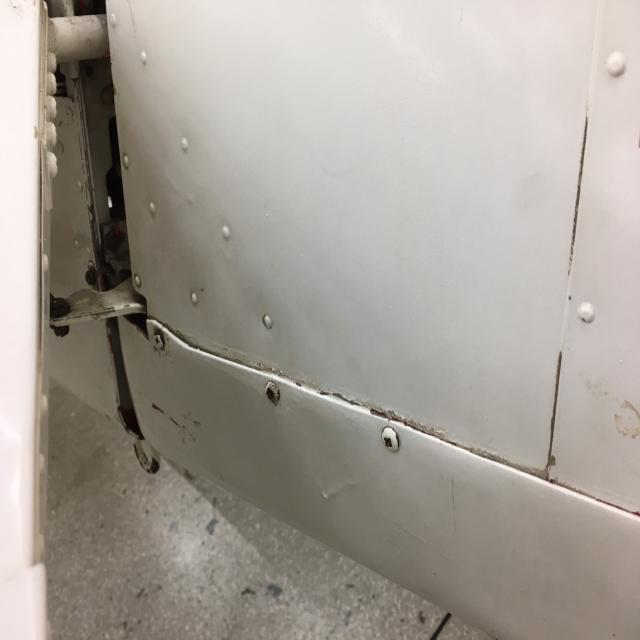Crack: (537, 106, 595, 494), (142, 384, 213, 464), (366, 391, 450, 458)
